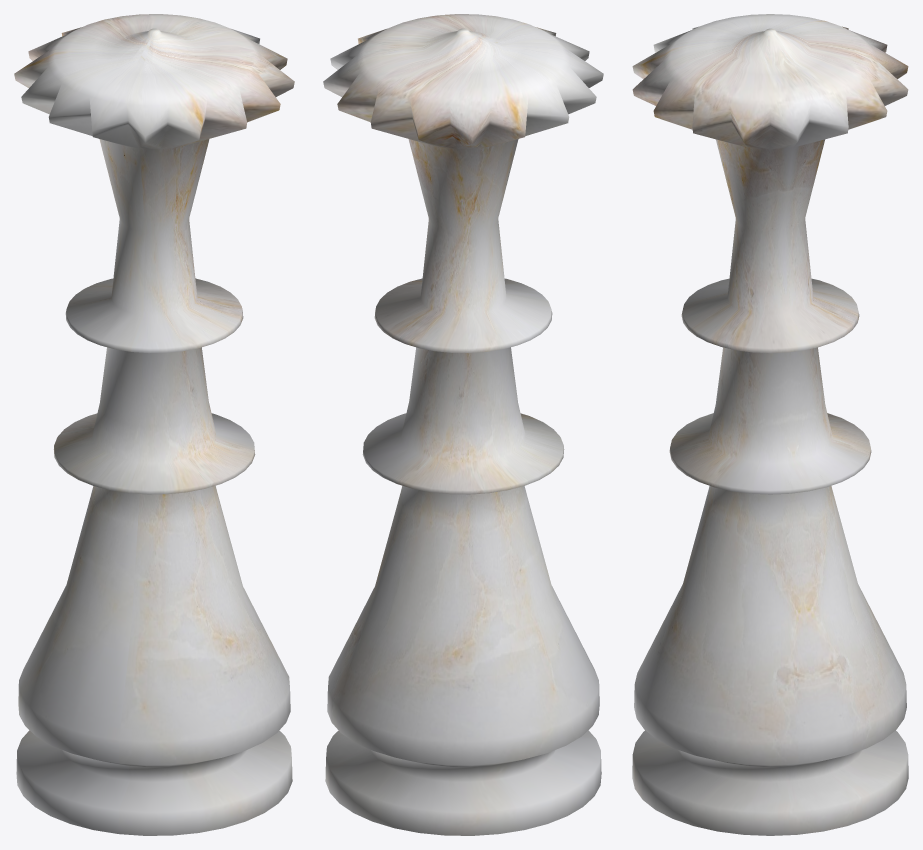
Rendered from queen.glb.
3 renders of one model, left to right at view 1: azimuth 30°, elevation 25°; view 2: azimuth 150°, elevation 25°; view 3: azimuth 270°, elevation 25°, orthographic.
Visible parts, largest first — view 1: Cylinder; view 2: Cylinder; view 3: Cylinder.
Boxes of the visible parts, box(x1,y1,x2,y2) form: Cylinder: box(14, 14, 294, 835); Cylinder: box(323, 14, 603, 835); Cylinder: box(632, 14, 908, 835).
Bounding box in the file's own units: 6 × 17.87 × 6.
Materials: 1 (1 with a texture image).
